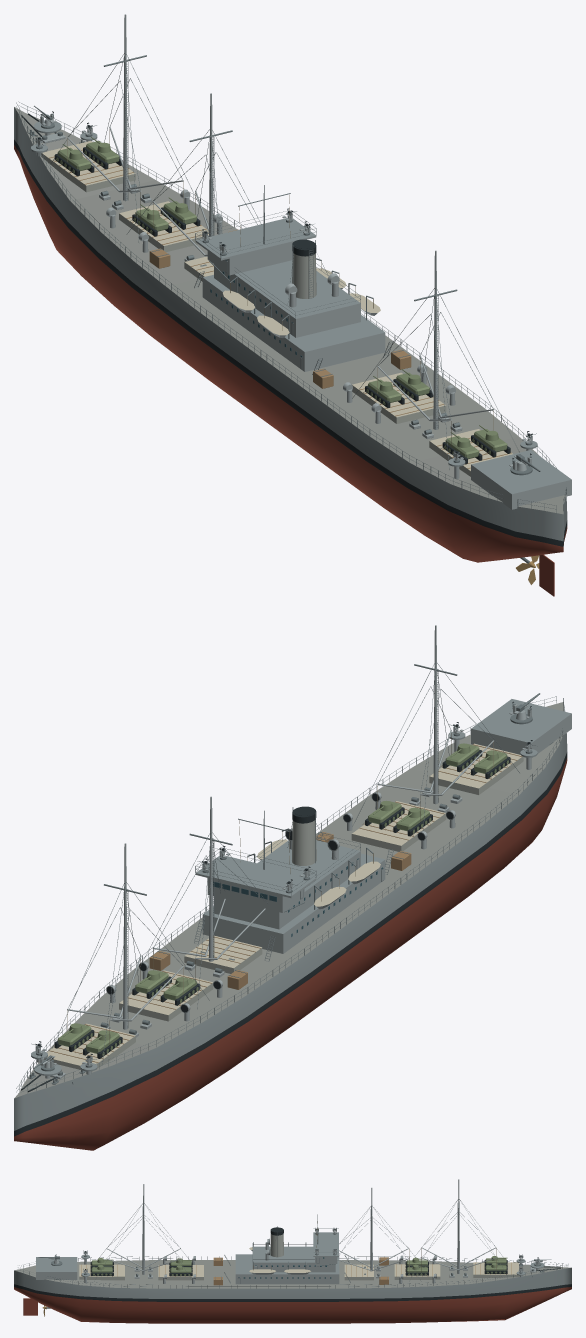
Rendered from liberty-deck-cargo.glb.
3 renders of one model, top to bottom at view 1: azimuth 30°, elevation 25°; view 2: azimuth 150°, elevation 25°; view 3: azimuth 270°, elevation 25°, orthographic. The views are drawn at different scales.
Visible parts, largest first — view 1: hull.surface, boat-deck.mesh, vehicle-cargo.mesh, midship-house.mesh, poop-house.mesh, bridge-wings.mesh, deck-rails.mesh, cargo-mast-1.mesh, cargo-mast-3.mesh, hatch-4.mesh, hatch-1.mesh, lifeboats.mesh (+11 smaller); view 2: hull.surface, vehicle-cargo.mesh, boat-deck.mesh, midship-house.mesh, poop-house.mesh, bridge-wings.mesh, deck-rails.mesh, hatch-4.mesh, hatch-3.mesh, hatch-5.mesh, hatch-2.mesh, wheelhouse.mesh (+13 smaller); view 3: hull.surface, midship-house.mesh, vehicle-cargo.mesh, boat-deck.mesh, deck-rails.mesh, poop-house.mesh, bridge-wings.mesh, hatch-2.mesh, hatch-3.mesh, cargo-mast-1.mesh, hatch-4.mesh, hatch-1.mesh (+12 smaller).
Boxes of the visible parts, x1,y1,x2,y2 form: hull.surface: (14,107,567,562); boat-deck.mesh: (214,260,360,337); vehicle-cargo.mesh: (54,137,510,464); midship-house.mesh: (202,274,385,371); poop-house.mesh: (471,450,571,509); bridge-wings.mesh: (195,210,316,260); deck-rails.mesh: (16,101,566,512); cargo-mast-1.mesh: (51,53,208,243); cargo-mast-3.mesh: (352,288,519,470); hatch-4.mesh: (352,372,446,423); hatch-1.mesh: (41,141,135,192); lifeboats.mesh: (223,258,380,339); hull.surface: (14,702,567,1150); vehicle-cargo.mesh: (54,743,510,1058); boat-deck.mesh: (214,833,360,929); midship-house.mesh: (202,853,385,953); poop-house.mesh: (471,699,571,757); bridge-wings.mesh: (195,847,316,897); deck-rails.mesh: (16,696,565,1093); hatch-4.mesh: (351,801,446,851); hatch-3.mesh: (184,935,262,973); hatch-5.mesh: (429,743,523,794); hatch-2.mesh: (119,970,213,1021); wheelhouse.mesh: (207,878,304,912); hull.surface: (14,1260,571,1323); midship-house.mesh: (235,1254,339,1284); vehicle-cargo.mesh: (90,1256,507,1276); boat-deck.mesh: (252,1243,335,1272); deck-rails.mesh: (18,1256,568,1288); poop-house.mesh: (36,1257,77,1279); bridge-wings.mesh: (313,1228,338,1256); hatch-2.mesh: (394,1264,440,1279); hatch-3.mesh: (344,1264,373,1280); cargo-mast-1.mesh: (409,1199,506,1281); hatch-4.mesh: (158,1265,203,1280); hatch-1.mesh: (473,1262,518,1277).
Size of the model in its own units: 17.07 by 36.73 by 135.
